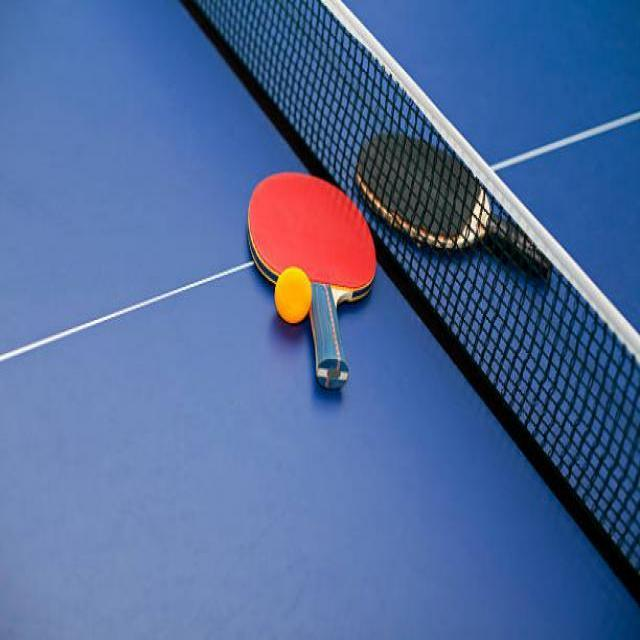oball: (275, 266, 313, 323)
